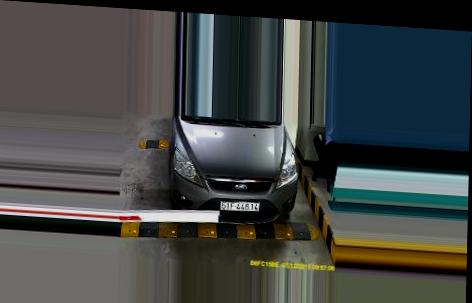License_Plate: (220, 199, 261, 214)
